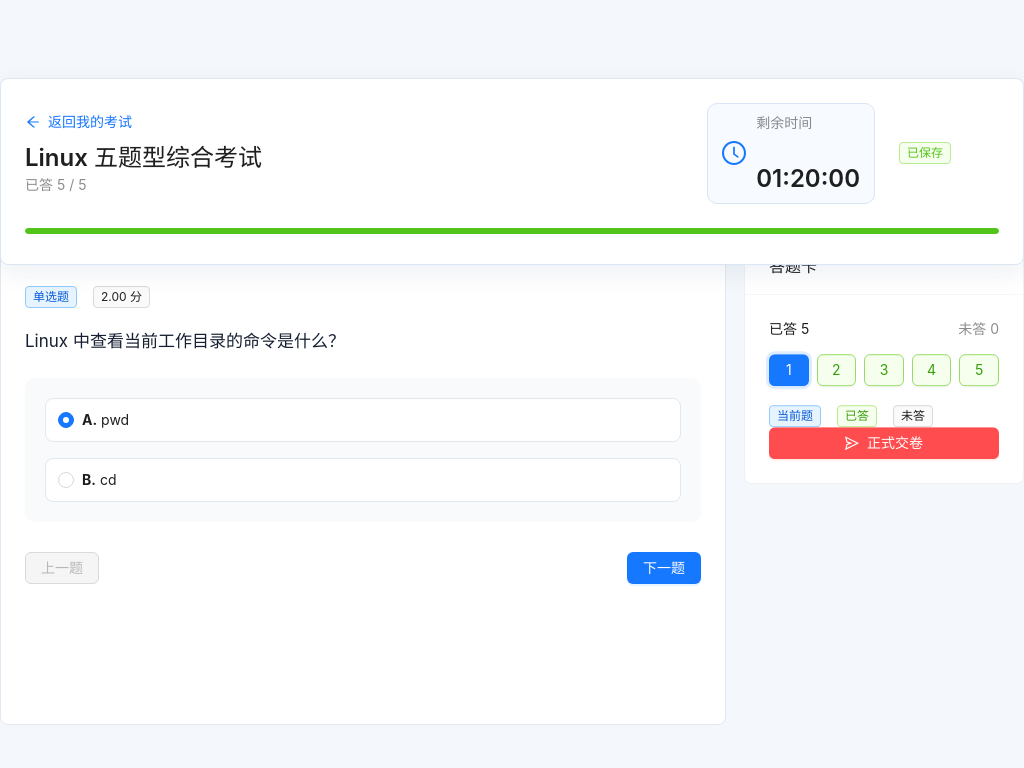
it: online exam safe rendering and recovery › uses sort_order for readable navigation and answered state
The width and height of the screenshot is (1024, 768).
Expected: the text "第 1 题" is shown, x1=25 y1=223 x2=72 y2=243
Expected: the text "答题卡" is shown, x1=769 y1=256 x2=817 y2=276
Click the button named "第 4 题，已答" at (932, 370), box x1=912 y1=354 x2=951 y2=386
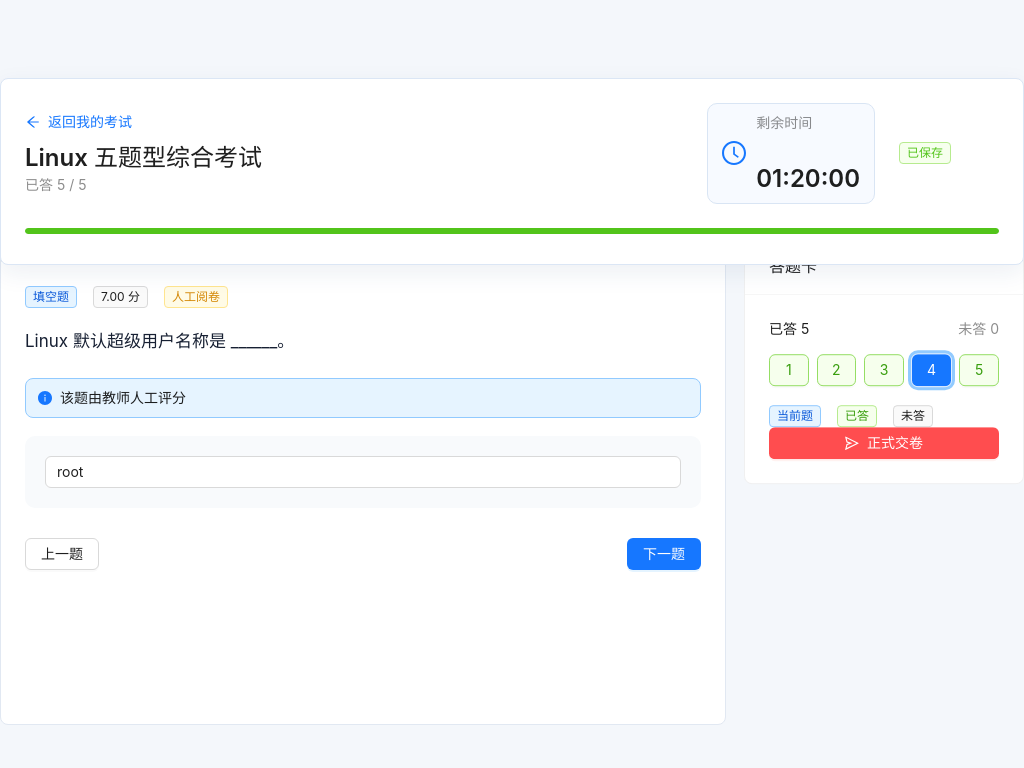
Expected: the text "第 4 题" is shown, x1=25 y1=223 x2=76 y2=243
Expected: the field showing "root" is shown, x1=45 y1=456 x2=681 y2=488
